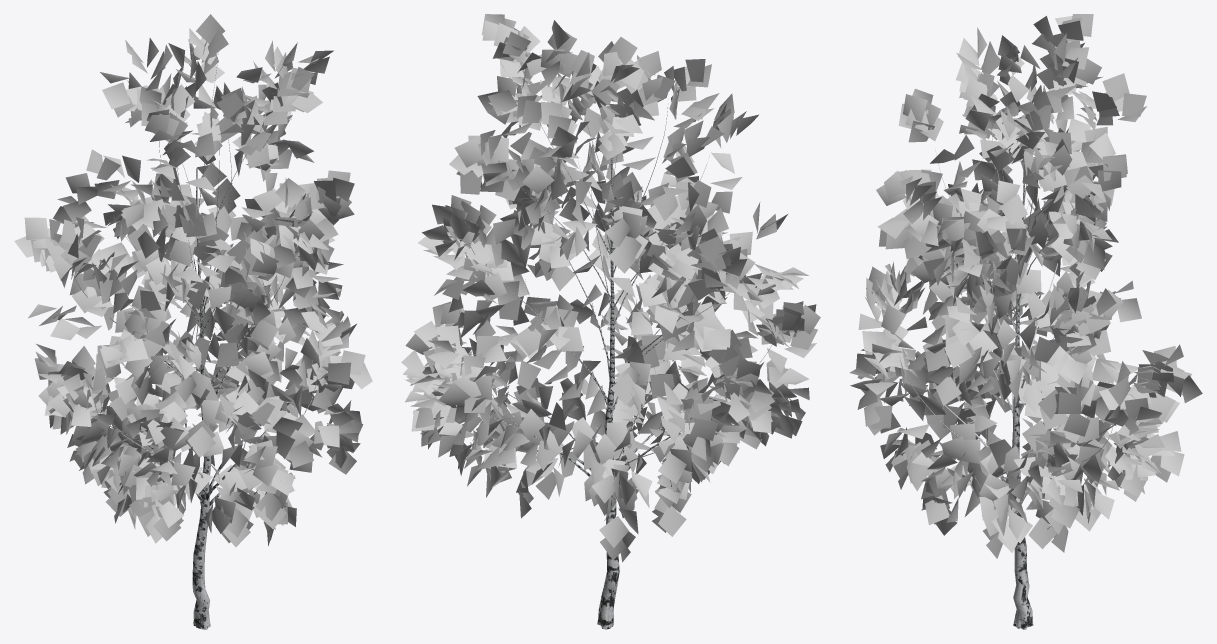
File: 00734 _Birch 03 lod1.FBX
3 renders of one model, left to right at view 1: azimuth 30°, elevation 25°; view 2: azimuth 150°, elevation 25°; view 3: azimuth 270°, elevation 25°, orthographic. The views are drawn at different scales.
Visible parts, largest first — view 1: 00734 _Birch 03 lod1; view 2: 00734 _Birch 03 lod1; view 3: 00734 _Birch 03 lod1.
Part boxes in pixels (left/top/right/bottom): 00734 _Birch 03 lod1: left=14, top=14, right=372, bottom=629; 00734 _Birch 03 lod1: left=401, top=14, right=820, bottom=629; 00734 _Birch 03 lod1: left=849, top=14, right=1202, bottom=629.
Size of the model in its own units: 4.68 by 8.23 by 4.34.
